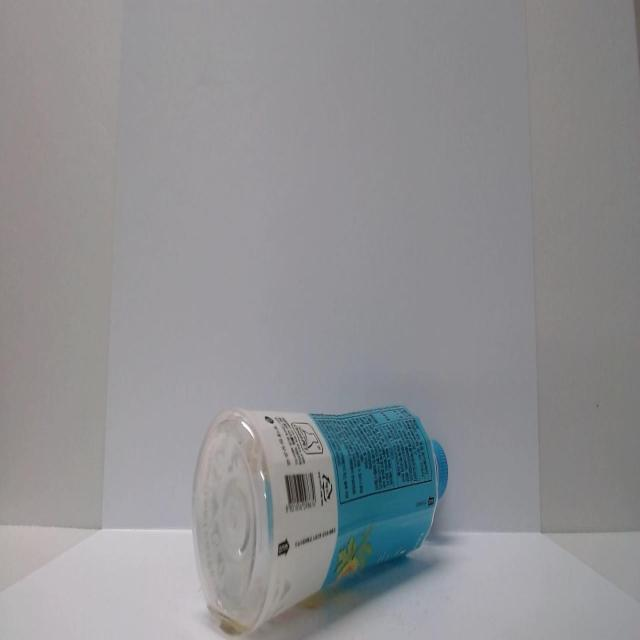bottle: (189, 401, 455, 640)
